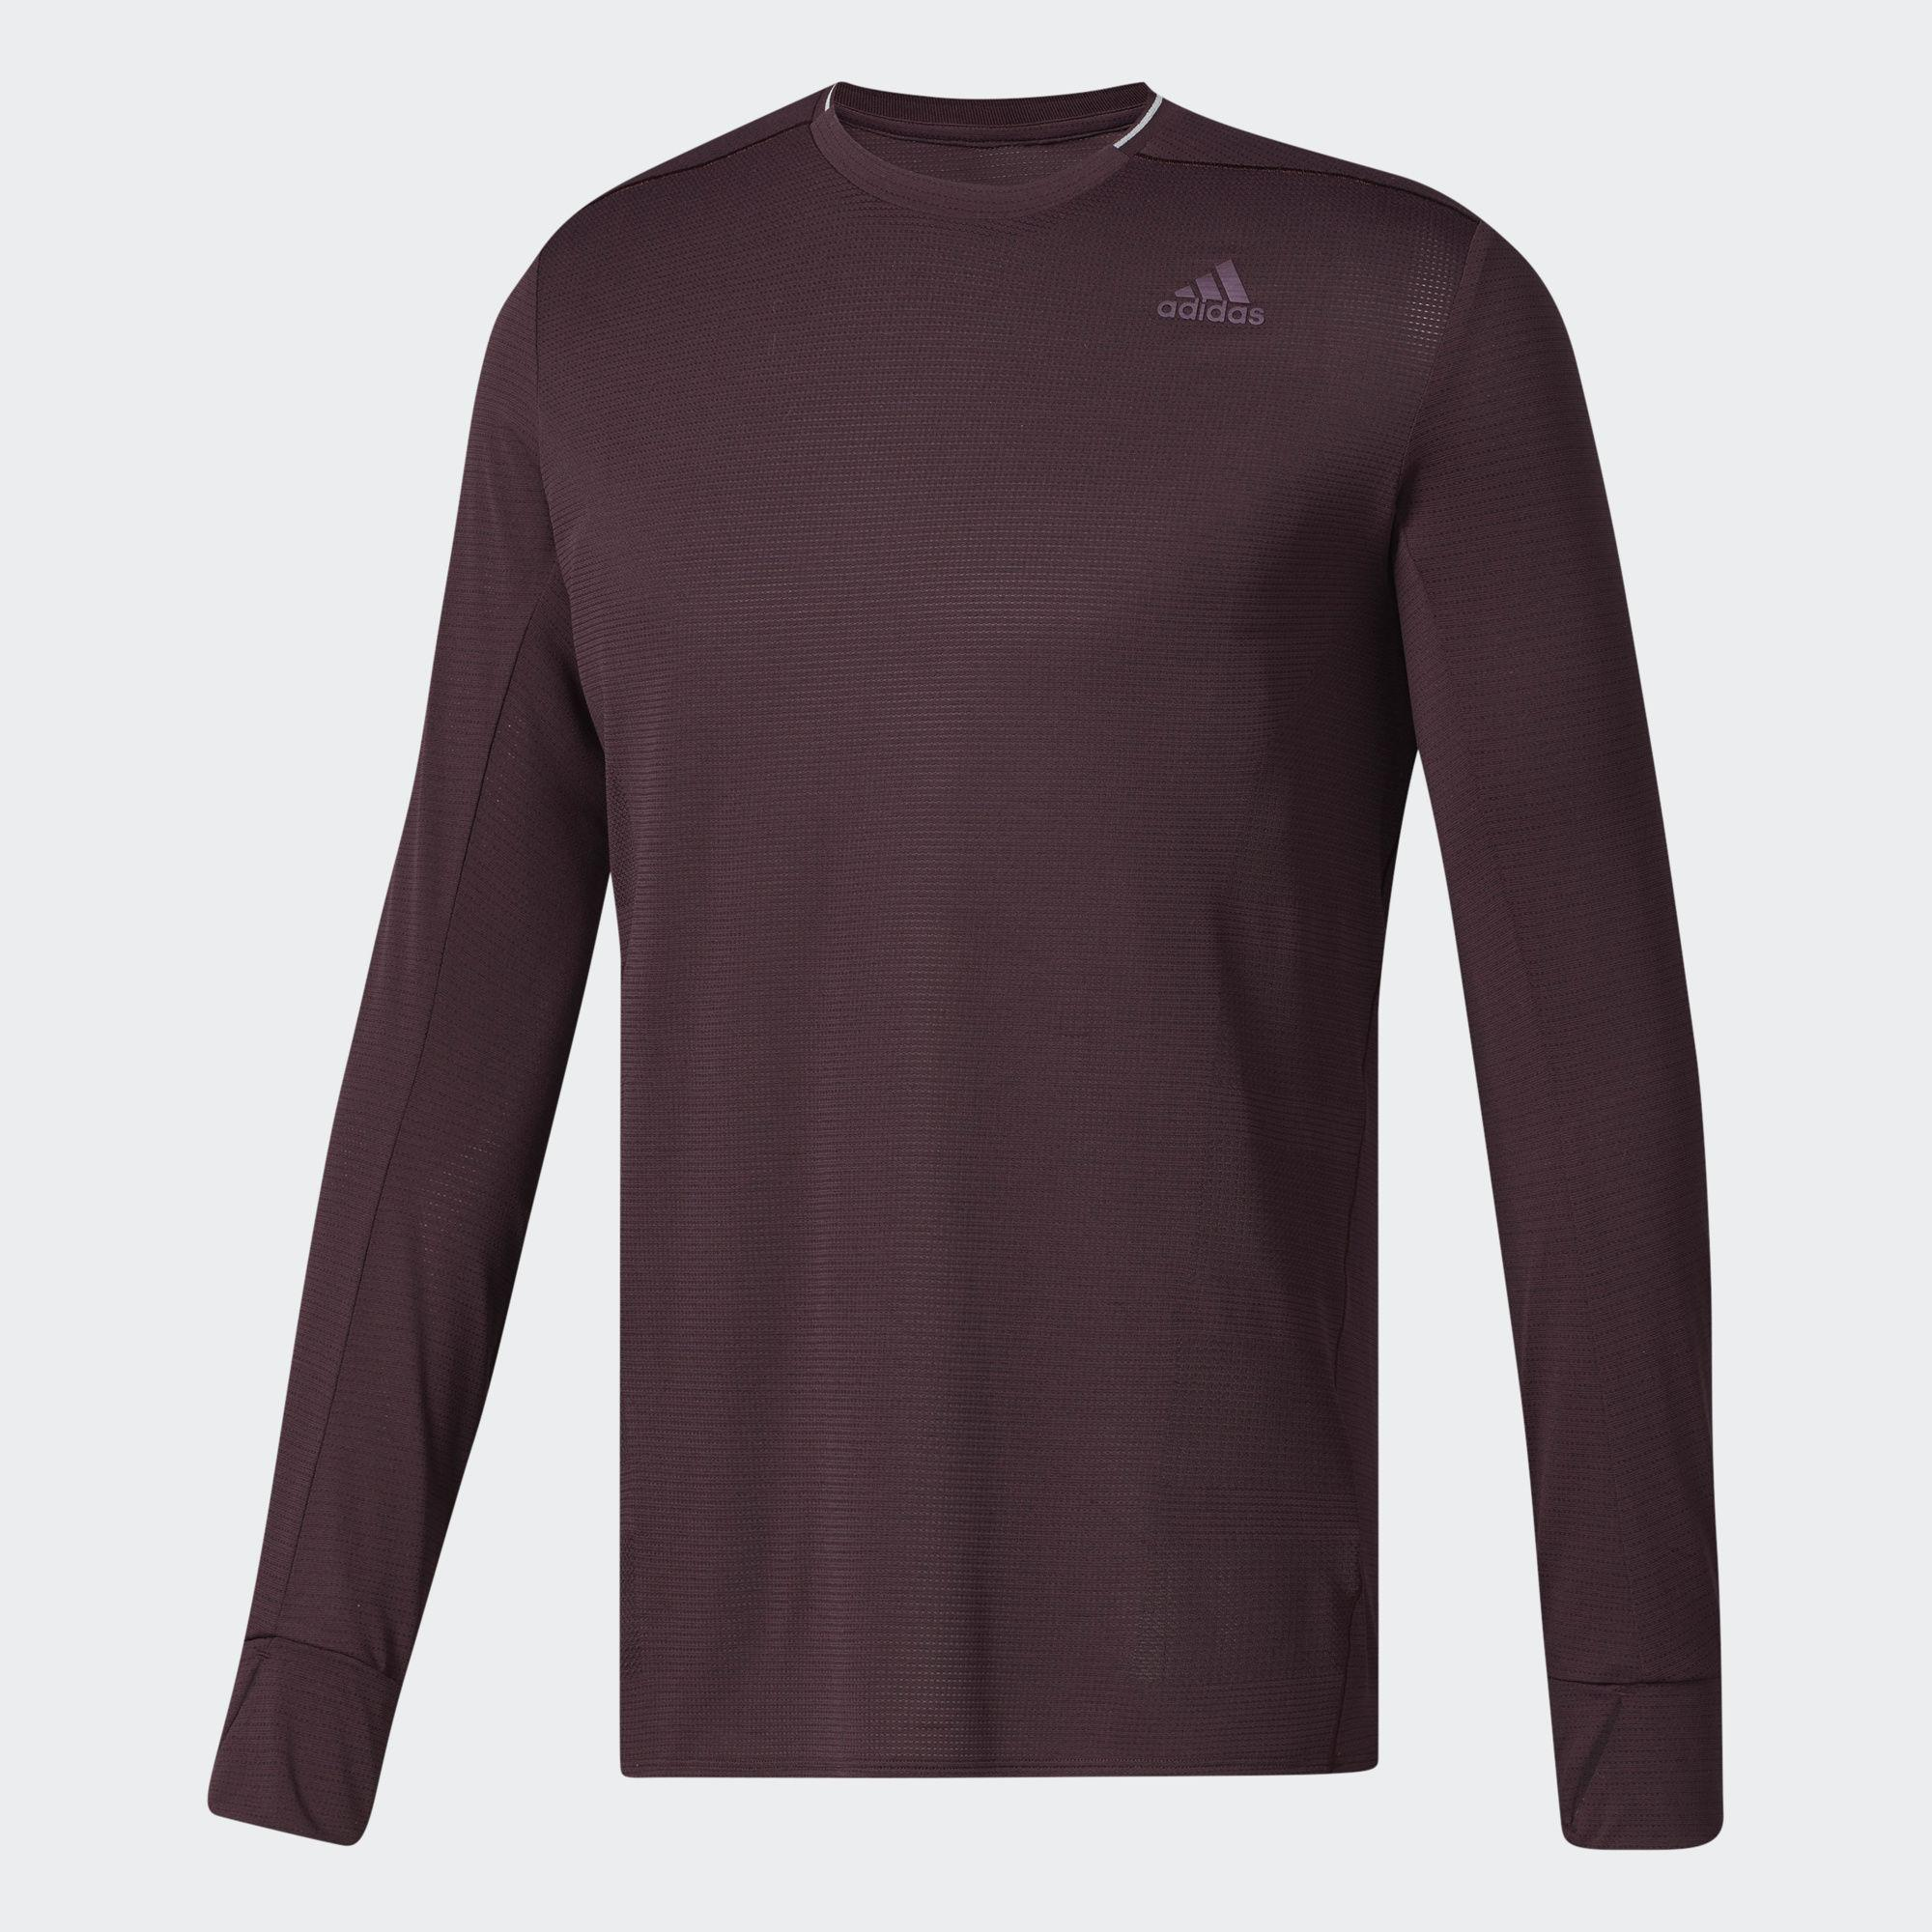teeshirt: (172, 67, 1792, 1905)
